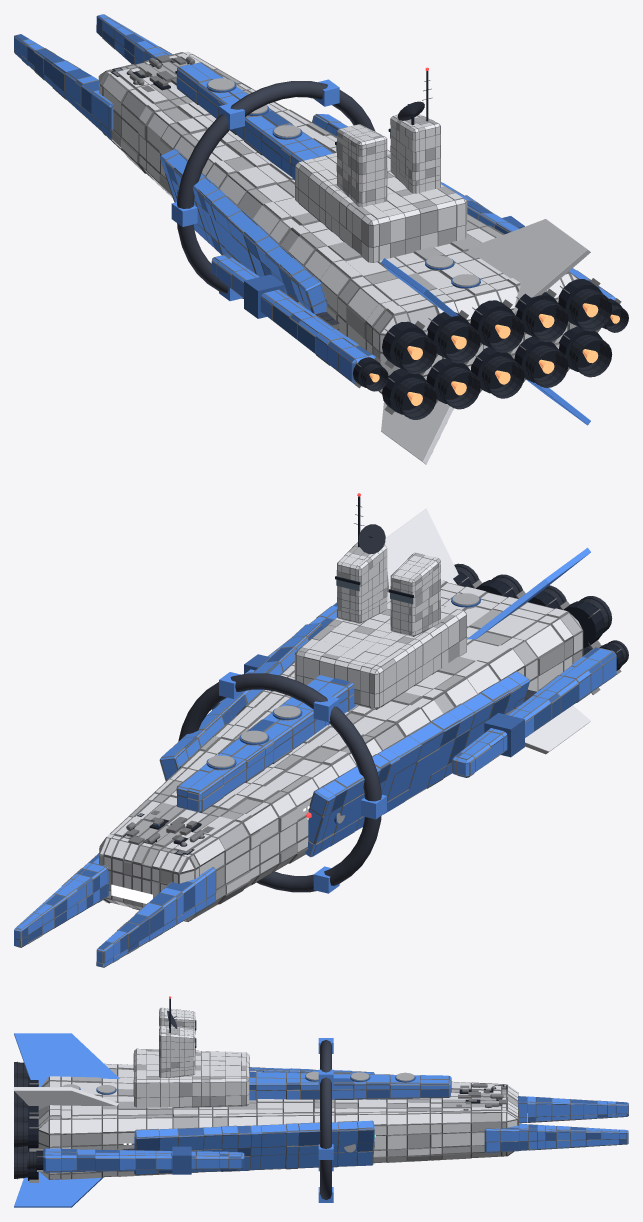
Rendered from aeon.glb.
3 views of the same model, one above another, from view 1: azimuth 30°, elevation 25°; view 2: azimuth 150°, elevation 25°; view 3: azimuth 270°, elevation 25° (orthographic). The views are drawn at different scales.
Visible parts, largest first — view 1: aeon_mesh; view 2: aeon_mesh, radar_mesh; view 3: aeon_mesh.
Part boxes in pixels (bbox=[...]): aeon_mesh: bbox=[14, 14, 628, 464]; aeon_mesh: bbox=[14, 496, 628, 967]; radar_mesh: bbox=[358, 524, 385, 553]; aeon_mesh: bbox=[14, 998, 628, 1207].
Size of the model in its own units: 43.96 by 47.98 by 128.
